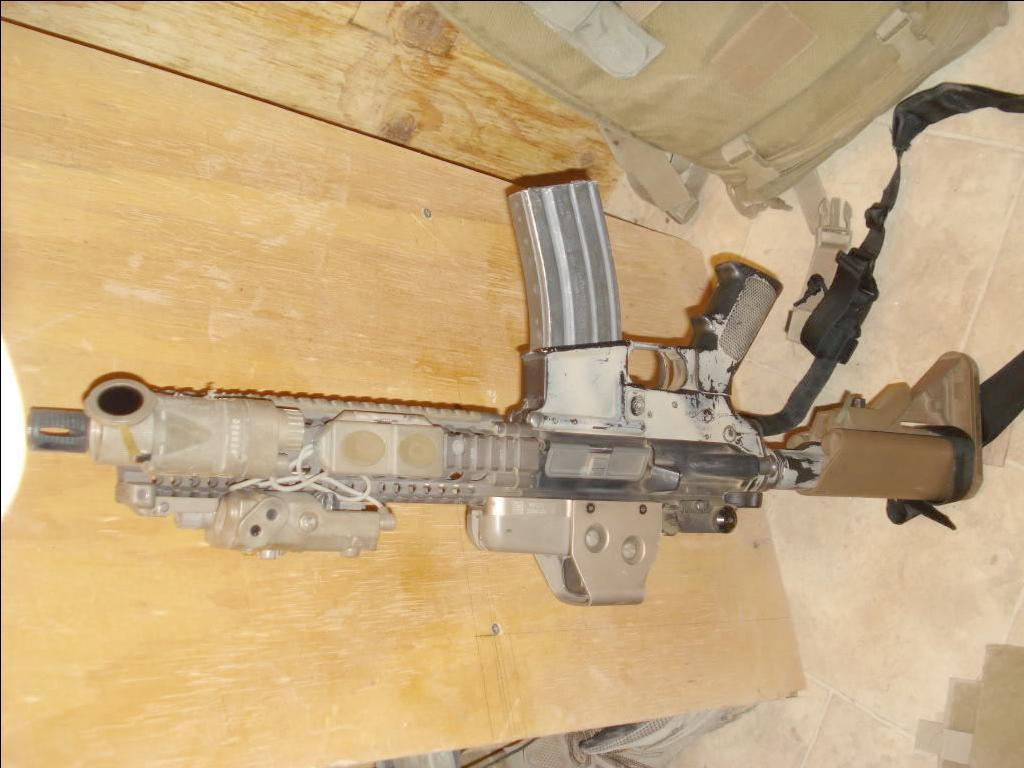gun: (16, 174, 988, 606)
